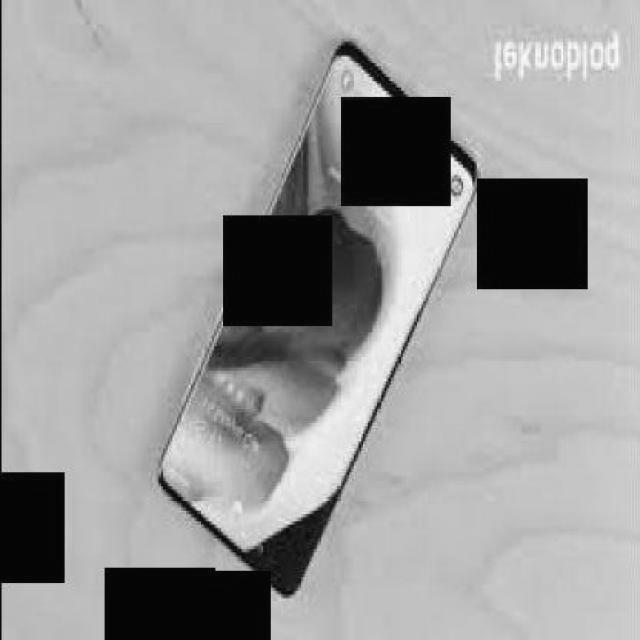fake: (156, 28, 482, 602)
